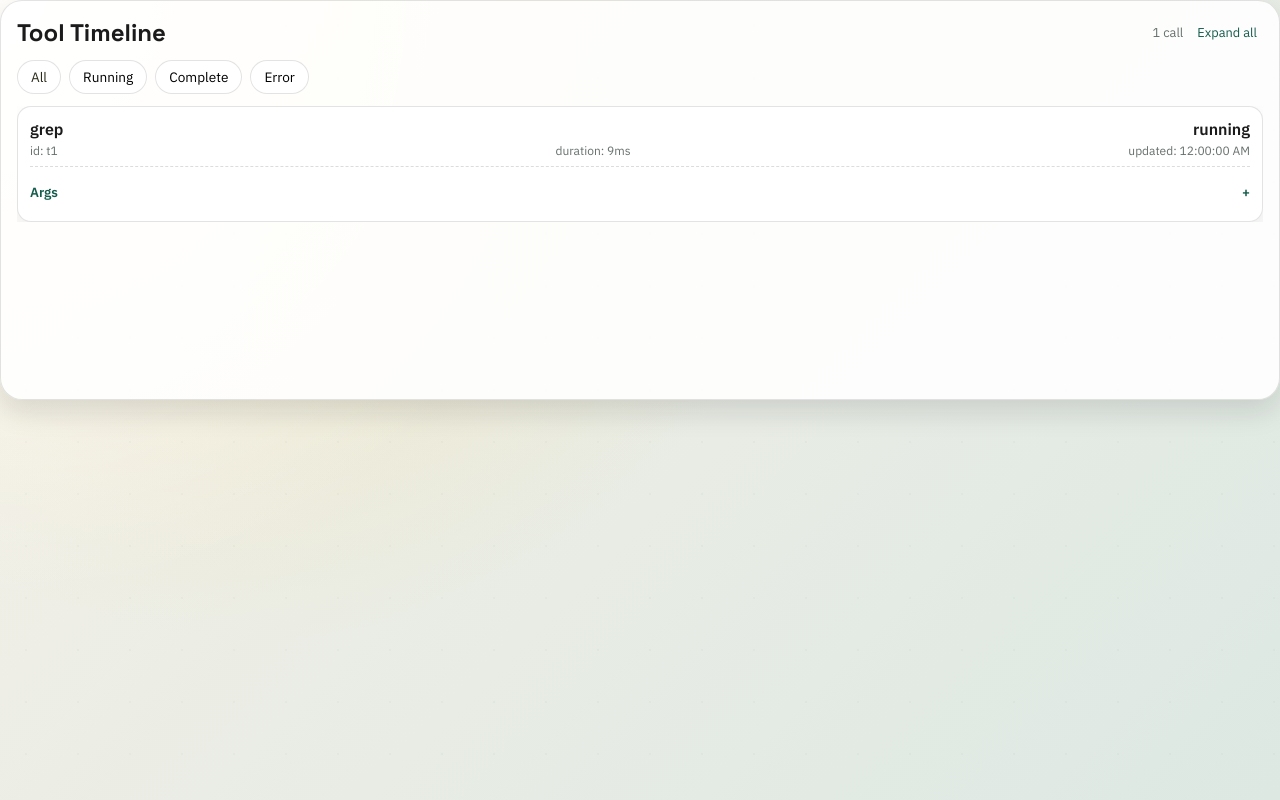
it: ToolTimeline › toggles detail sections and expand/collapse all
The image size is (1280, 800).
Expected: the text "pattern" is not shown
Click the button "Args +" at (44, 192), box [30,175,1250,209]
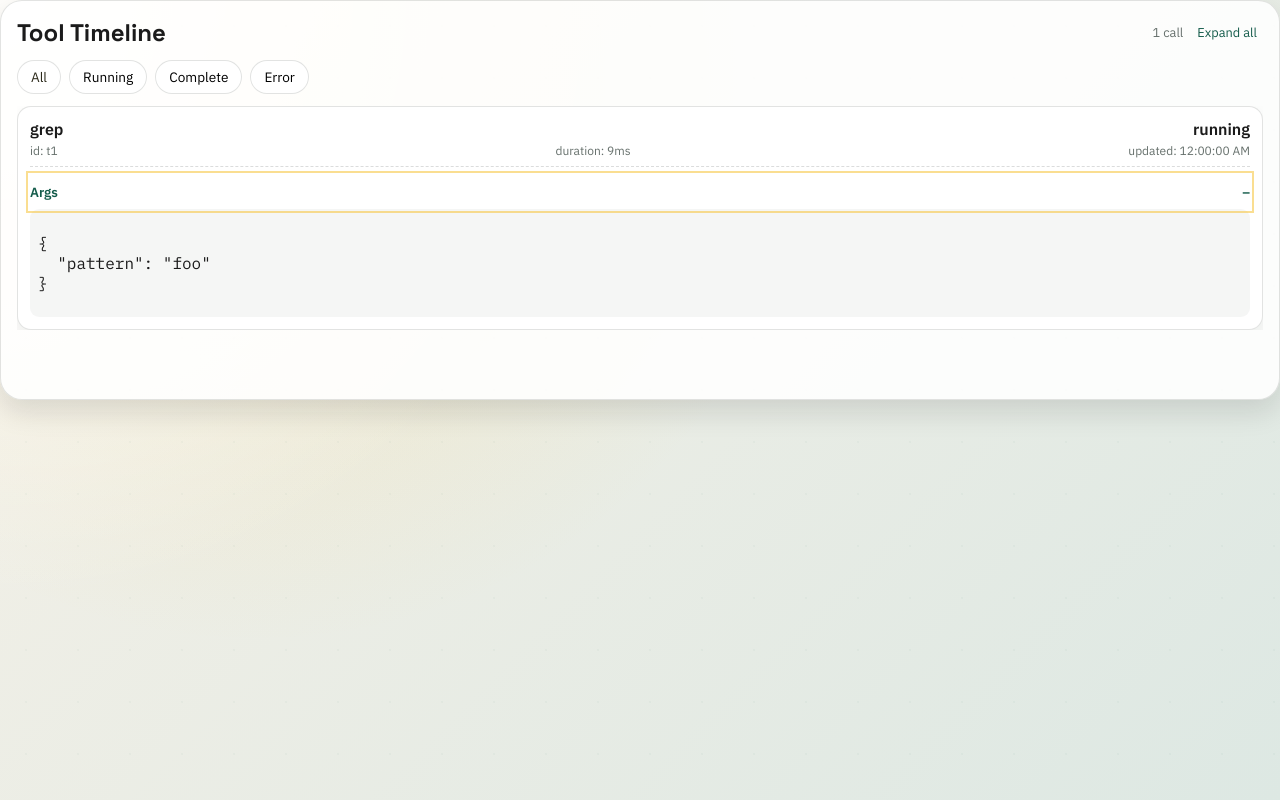
Expected: the text "{ \"pattern\": \"foo\" }" is shown, [38,233,211,293]
Click the button "Args –" at (44, 192), box [30,175,1250,209]
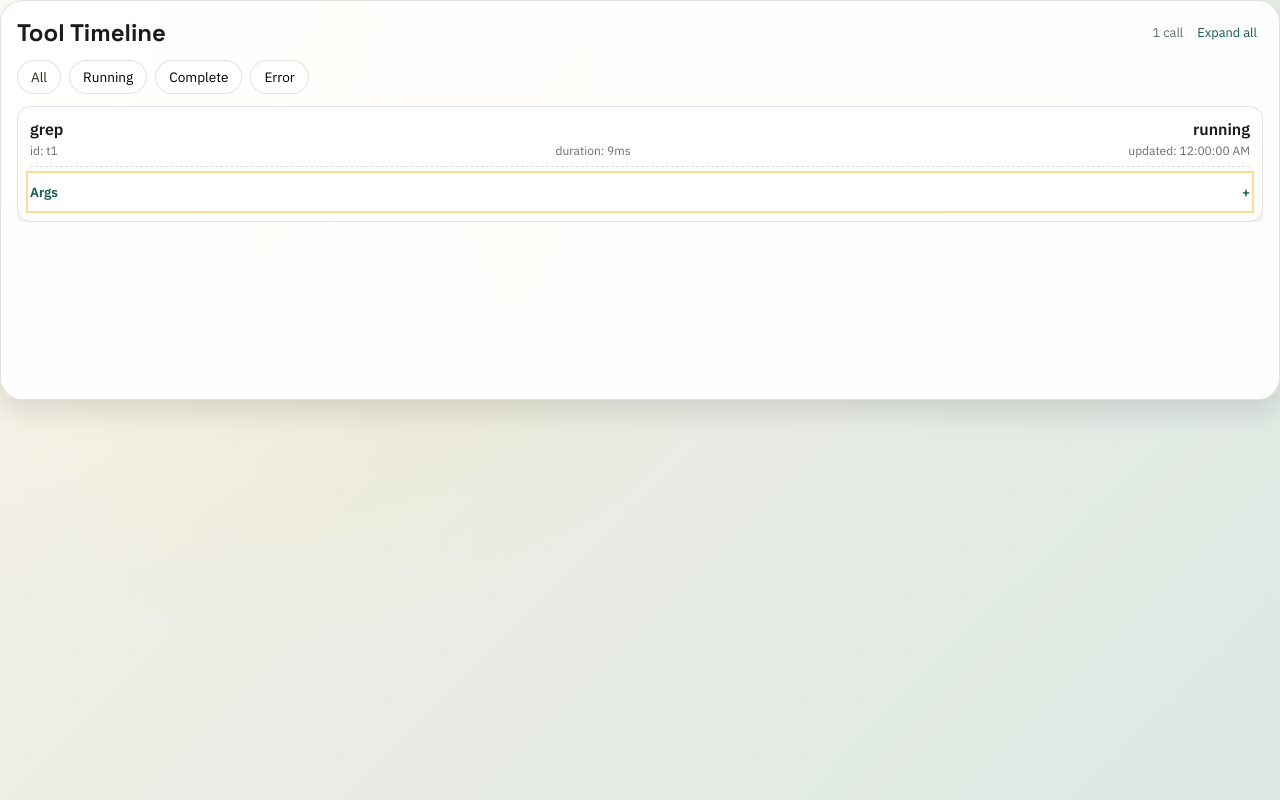
Expected: the text "pattern" is gone
Click the button "Expand all" at (1227, 32), box [1191,23,1263,42]
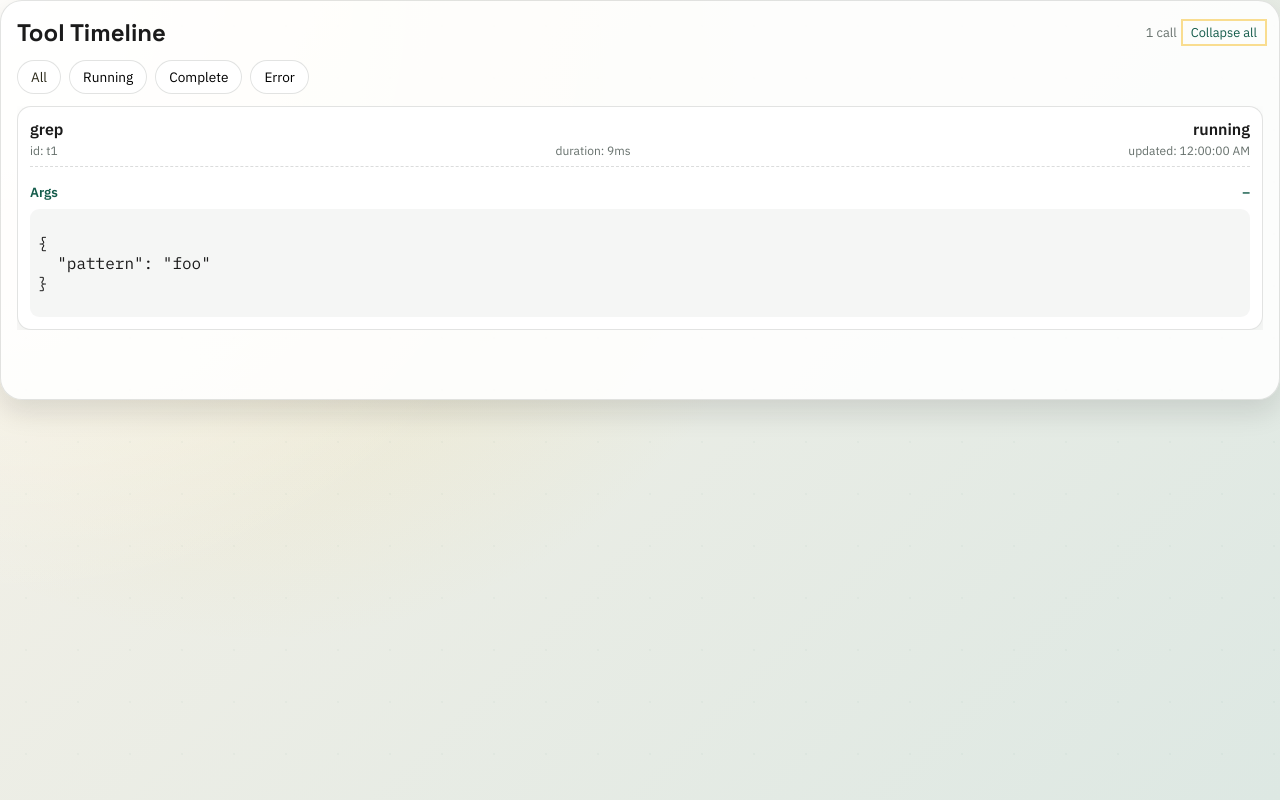
Expected: the text "{ \"pattern\": \"foo\" }" is shown, [38,233,211,293]
Click the button "Collapse all" at (1224, 32), box [1185,23,1263,42]
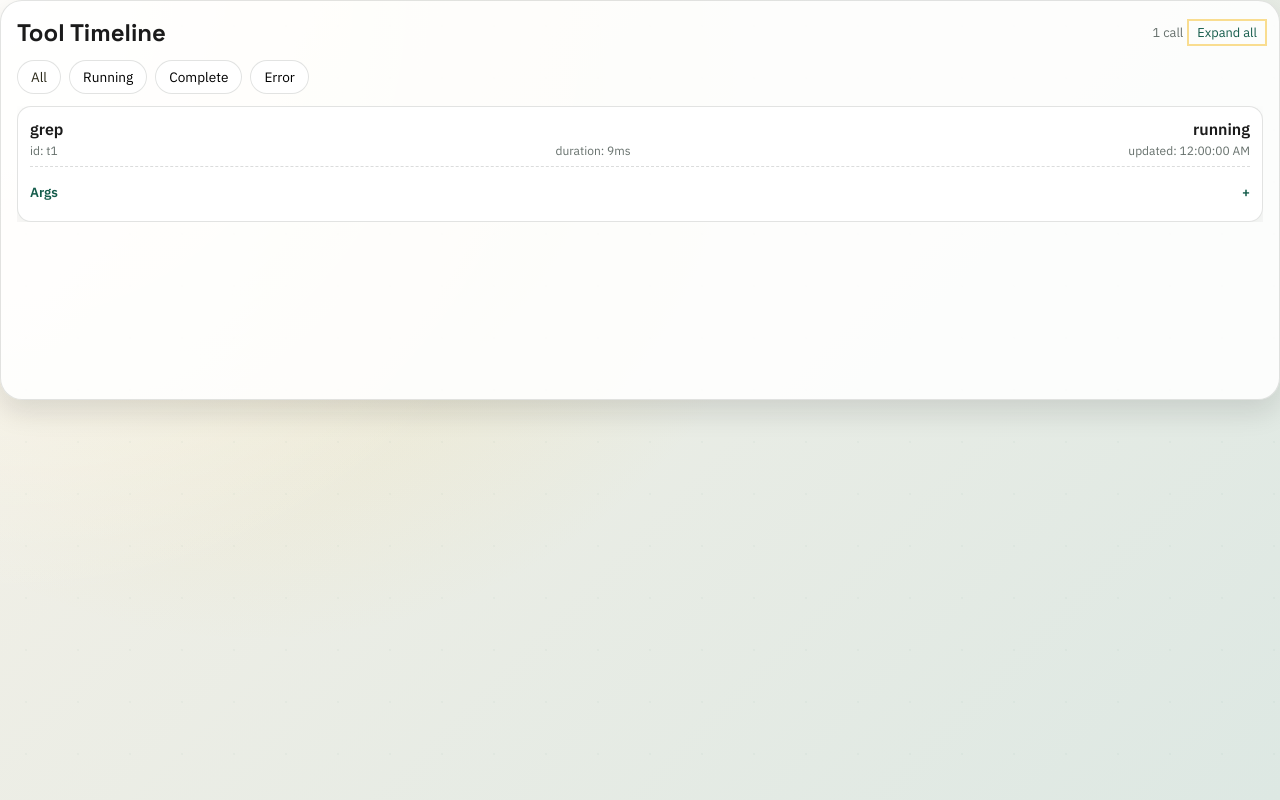
Expected: the text "pattern" is gone
